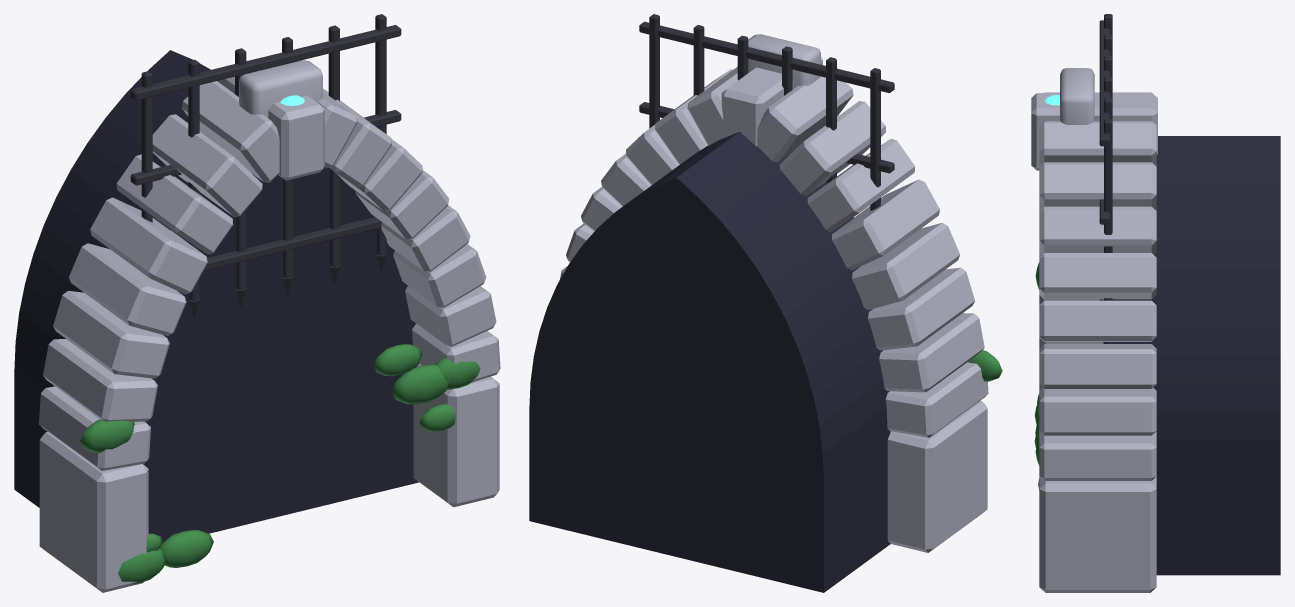
Rendered from magic_culvert.glb.
3 renders of one model, left to right at view 1: azimuth 30°, elevation 25°; view 2: azimuth 150°, elevation 25°; view 3: azimuth 270°, elevation 25°, orthographic. The views are drawn at different scales.
Visible parts, largest first — view 1: magic_culvert; view 2: magic_culvert; view 3: magic_culvert.
Boxes of the visible parts, x1=… form: magic_culvert: x1=14, y1=14, x2=500, y2=592; magic_culvert: x1=529, y1=14, x2=1002, y2=592; magic_culvert: x1=1031, y1=14, x2=1280, y2=592.
Bounding box in the file's own units: 1.29 × 1.4 × 0.7236.
